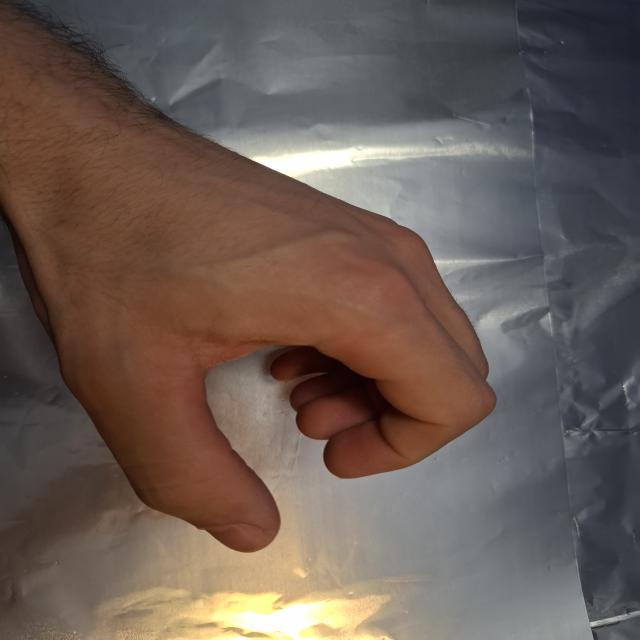glove_off: (9, 149, 500, 556)
